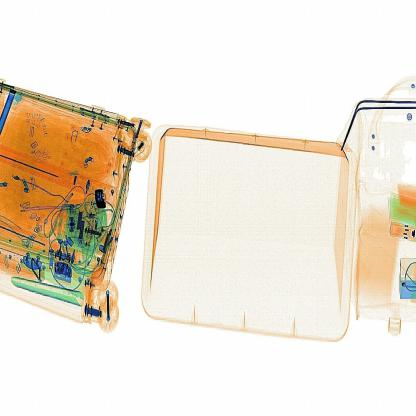pliers: (89, 177, 112, 215)
